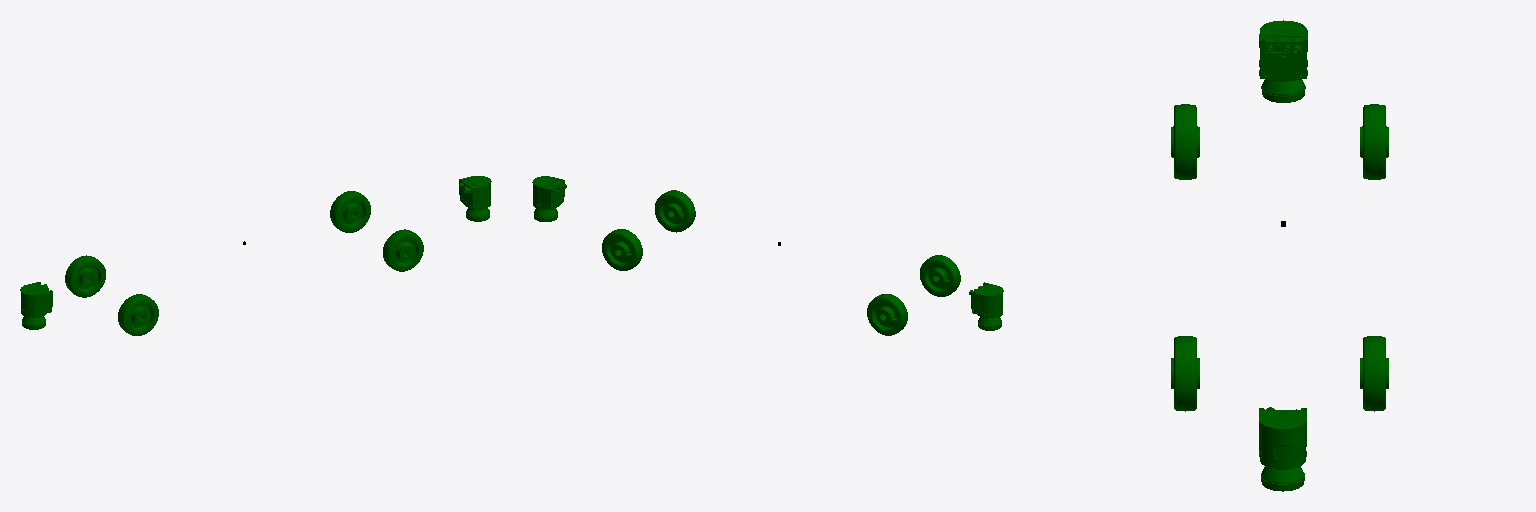
URDF robot description (Flexley_Tug):
<?xml version="1.0"?>
<robot name="Flexley_Tug" xmlns:xacro="http://www.ros.org/wiki/xacro">
 
  <material name="gray">
    <color rgba="0.5 0.5 0.5 1.0"/>
  </material>
  
  <material name="black">
  <color rgba="0 0 0 1"/>
</material>

<material name="white">
  <color rgba="1.0 1.0 1.0 1.0"/>
</material>

<material name="dark_green">
  <color rgba="0.0 0.4 0.0 1.0"/>
</material>

<material name="brown">
  <color rgba="0.545 0.271 0.075 1.0"/>
</material>

<material name="off_white">
  <color rgba="0.93 0.91 0.84 1.0"/>
</material>

<material name="yellow">
  <color rgba="1.0 1.0 0.0 1.0"/>
</material>

<material name="blue">
  <color rgba="0.0 0.0 1.0 1.0"/>
</material>

<link name="base_footprint">
  <visual>
    <origin xyz="0 0 0" rpy="0 0 0"/>
    <geometry>
      <box size="0.01 0.01 0.01"/>
    </geometry>
    <material name="black"/>
  </visual>
</link>


<link name="base_link">
  <visual>
    <origin xyz="0 0 0" rpy="0 0 0"/>
    <geometry>
      <mesh filename="package://abb_flexley_description/meshes/chassis.stl" scale="0.001 0.001 0.001"/>
    </geometry>
    <material name="white"/>
  </visual>

  <collision>
    <origin xyz="0 0 0" rpy="0 0 0"/>
    <geometry>
       <box size="2.1 0.5 0.230"  />
    </geometry>
  </collision>

  <inertial>
    <origin xyz="0 0 0" rpy="0 0 0"/>
    <mass value="20.97"/>
    <inertia 
      ixx="0.529" ixy="0.0" ixz="0.0"
      iyy="7.829" iyz="0.0"
      izz="8.173"/>
  </inertial>
</link>


<joint name="base_joint" type="fixed">
  <parent link="base_footprint"/>
  <child link="base_link"/>
  <origin xyz="0 0 0" rpy="0 0 0"/>
</joint>


<link name="front_left_wheel">
  <visual>
    <origin xyz="0 0 0" rpy="0 0 0"/>
    <geometry>
      <mesh filename="package://abb_flexley_description/meshes/wheel_front_right.stl" scale="0.001 0.001 0.001" />
    </geometry>
    <material name="dark_green"/>
  </visual>
  <collision>
    <origin xyz="0 0 0" rpy="1.5708 0 0"/>  
    <geometry>
      <cylinder radius="0.075" length="0.05"/>   
    </geometry>
  </collision>
  <inertial>
    <origin xyz="0 0 0" rpy="0 0 0"/>
    <mass value="0.765"/>
    <inertia ixx="0.001235" ixy="0" ixz="0" iyy="0.001235" iyz="0" izz="0.002152"/>
  </inertial>
</link>

<joint name="front_left_wheel_joint" type="continuous">
  <parent link="base_link"/>
  <child link="front_left_wheel"/>
  <origin xyz="0.580 0.200 -0.08" rpy="0 0 0"/>
  <axis xyz="0 1 0"/>
</joint>

<link name="front_right_wheel">
  <visual>
    <origin xyz="0 0 0" rpy="0 0 0"/>
    <geometry>
      <mesh filename="package://abb_flexley_description/meshes/wheel_front_right.stl" scale="0.001 0.001 0.001" />
    </geometry>
    <material name="dark_green"/>
  </visual>
  <collision>
    <origin xyz="0 0 0" rpy="1.5708 0 0"/>  
    <geometry>
      <cylinder radius="0.075" length="0.05"/>   
    </geometry>
  </collision>
  <inertial>
    <origin xyz="0 0 0" rpy="0 0 0"/>
    <mass value="0.765"/>
    <inertia ixx="0.001235" ixy="0" ixz="0" iyy="0.001235" iyz="0" izz="0.002152"/>
  </inertial>
</link>

<joint name="front_right_wheel_joint" type="continuous">
  <parent link="base_link"/>
  <child link="front_right_wheel"/>
  <origin xyz="0.580 -0.200  -0.08" rpy="0 0 0"/>
  <axis xyz="0 1 0"/>
</joint>

<link name="back_left_wheel">
  <visual>
    <origin xyz="0 0 0" rpy="0 0 0"/>
    <geometry>
      <mesh filename="package://abb_flexley_description/meshes/wheel_front_right.stl" scale="0.001 0.001 0.001" />
    </geometry>
    <material name="dark_green"/>
  </visual>
  <collision>
    <origin xyz="0 0 0" rpy="1.5708 0 0"/>  
    <geometry>
      <cylinder radius="0.075" length="0.05"/>   
    </geometry>
  </collision>
  <inertial>
    <origin xyz="0 0 0" rpy="0 0 0"/>
    <mass value="0.765"/>
    <inertia ixx="0.001235" ixy="0" ixz="0" iyy="0.001235" iyz="0" izz="0.002152"/>
  </inertial>
</link>

<joint name="back_left_wheel_joint" type="continuous">
  <parent link="base_link"/>
  <child link="back_left_wheel"/>
  <origin xyz="-0.580  0.200  -0.08" rpy="0 0 0"/>
  <axis xyz="0 1 0"/>
</joint>

<link name="back_right_wheel">
  <visual>
    <origin xyz="0 0 0" rpy="0 0 0"/>
    <geometry>
      <mesh filename="package://abb_flexley_description/meshes/wheel_front_right.stl" scale="0.001 0.001 0.001" />
    </geometry>
    <material name="dark_green"/>
  </visual>
  <collision>
    <origin xyz="0 0 0" rpy="1.5708 0 0"/>  
    <geometry>
      <cylinder radius="0.075" length="0.05"/>    
    </geometry>
  </collision>
  <inertial>
    <origin xyz="0 0 0" rpy="0 0 0"/>
    <mass value="0.765"/>
    <inertia ixx="0.001235" ixy="0" ixz="0" iyy="0.001235" iyz="0" izz="0.002152"/>
  </inertial>
</link>

<joint name="back_right_wheel_joint" type="continuous">
  <parent link="base_link"/>
  <child link="back_right_wheel"/>
  <origin xyz="-0.580 -0.200 -0.08" rpy="0 0 0"/>
  <axis xyz="0 1 0"/>
</joint>


<link name="base_scan_front">
  <visual>
    <origin xyz="0 0 0" rpy="0 0 0"/>
    <geometry>
      <mesh filename="package://abb_flexley_description/meshes/lidar_front.stl" scale="0.001 0.001 0.001" />
    </geometry>
    <material name="dark_green"/>
  </visual>
  <collision>
    <origin xyz="0 0 0" rpy="1.5708 0 0"/>  
    <geometry>
      <cylinder radius="0.05" length="0.05"/>    
    </geometry>
  </collision>
  <inertial>
    <origin xyz="0 0 0" rpy="0 0 0"/>
    <mass value="1.17"/>
    <inertia ixx="0.01" ixy="0" ixz="0" iyy="0.01" iyz="0" izz="0.01"/>
  </inertial>
</link>

<joint name="lidar_front_joint" type="fixed">
  <parent link="base_link"/>
  <child link="base_scan_front"/>
  <origin xyz="1.0 0 -0.05" rpy="0 0 3.14"/>
  <axis xyz="0 1 0"/>
</joint>


<link name="base_scan_back">
  <visual>
    <origin xyz="0 0 0" rpy="0 0 0"/>
    <geometry>
      <mesh filename="package://abb_flexley_description/meshes/lidar_front.stl" scale="0.001 0.001 0.001" />
    </geometry>
    <material name="dark_green"/>
  </visual>
  <collision>
    <origin xyz="0 0 0" rpy="1.5708 0 0"/>  
    <geometry>
      <cylinder radius="0.05" length="0.05"/>    
    </geometry>
  </collision>
  <inertial>
    <origin xyz="0 0 0" rpy="0 0 0"/>
    <mass value="1.17"/>
    <inertia ixx="0.01" ixy="0" ixz="0" iyy="0.01" iyz="0" izz="0.01"/>
  </inertial>
</link>

<joint name="lidar_back_joint" type="fixed">
  <parent link="base_link"/>
  <child link="base_scan_back"/>
  <origin xyz="-0.9 0 -0.05" rpy="0 0 0"/>
  <axis xyz="0 1 0"/>
</joint>

</robot>

--- Render facts (derived) ---
The picture shows the robot from 3 angles, left to right: view 1: azimuth 30°, elevation 25°; view 2: azimuth 150°, elevation 25°; view 3: azimuth 270°, elevation 25°; orthographic projection.
Model Flexley_Tug with 8 links and 7 joints (4 continuous, 3 fixed), rooted at base_footprint, posed every joint at zero.
Links seen in each view (by area): view 1: front_left_wheel, front_right_wheel, back_left_wheel, back_right_wheel, base_scan_back, base_scan_front; view 2: front_left_wheel, front_right_wheel, back_right_wheel, back_left_wheel, base_scan_back, base_scan_front; view 3: base_scan_front, base_scan_back, back_left_wheel, back_right_wheel, front_left_wheel, front_right_wheel.
Link boxes in pixels (<box>): front_left_wheel: <box>330,191,370,232</box>; front_right_wheel: <box>383,229,423,271</box>; back_left_wheel: <box>65,255,105,297</box>; back_right_wheel: <box>118,294,158,335</box>; base_scan_back: <box>20,282,52,329</box>; base_scan_front: <box>459,176,491,221</box>; front_left_wheel: <box>602,229,642,270</box>; front_right_wheel: <box>655,190,695,232</box>; back_right_wheel: <box>920,255,960,296</box>; back_left_wheel: <box>867,294,907,335</box>; base_scan_back: <box>969,282,1003,330</box>; base_scan_front: <box>532,176,566,221</box>; base_scan_front: <box>1259,407,1306,491</box>; base_scan_back: <box>1259,20,1307,102</box>; back_left_wheel: <box>1360,104,1388,179</box>; back_right_wheel: <box>1171,104,1199,179</box>; front_left_wheel: <box>1360,336,1388,411</box>; front_right_wheel: <box>1171,336,1199,411</box>.
Size in the robot's own frame: 2.05 by 0.46 by 0.1825 metres.
Meshes: 3 distinct files referenced, 6 mesh visuals loaded (2 binary STL); not drawn: 1 (reference not matched to a file when rendering).
